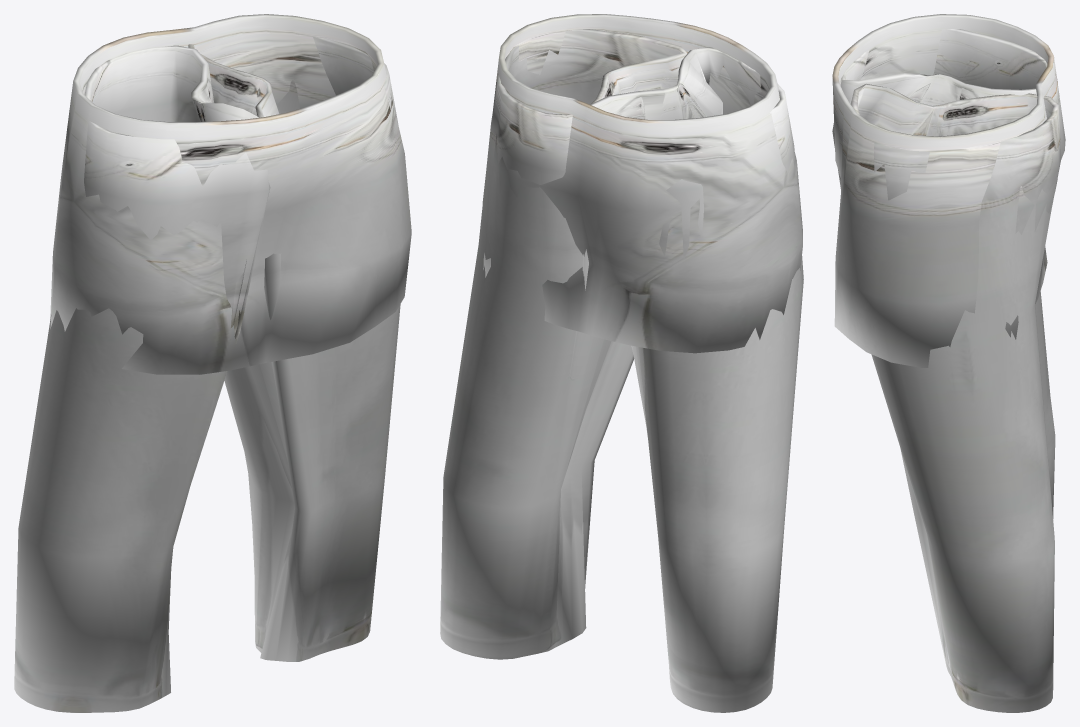
File: c3854e86-7b59-4af7-a19f-2e9796fdf7b1.glb
3 views of the same model, side by side, from view 1: azimuth 30°, elevation 25°; view 2: azimuth 150°, elevation 25°; view 3: azimuth 270°, elevation 25° (orthographic). The views are drawn at different scales.
Visible parts, largest first — view 1: garment_leg0; view 2: garment_leg0; view 3: garment_leg0.
Part boxes in pixels (box(x1,y1,x2,y2)): garment_leg0: box(14, 14, 411, 712); garment_leg0: box(440, 14, 803, 712); garment_leg0: box(832, 14, 1065, 712).
Size of the model in its own units: 0.4492 by 0.7726 by 0.2885.
1 material, 1 textured.
